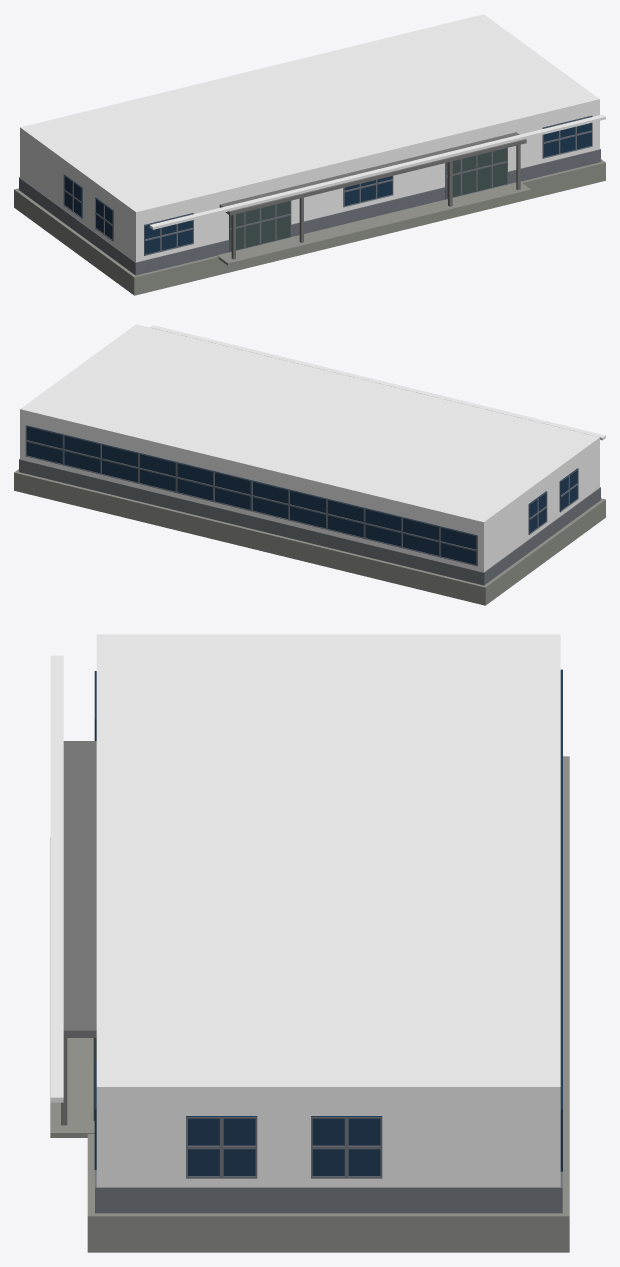
Rendered from mashup-lecture-base-prebuilt_close.fbx.
3 renders of one model, top to bottom at view 1: azimuth 30°, elevation 25°; view 2: azimuth 150°, elevation 25°; view 3: azimuth 270°, elevation 25°, orthographic. The views are drawn at different scales.
Parts seen in each view (by area): view 1: a201.LectureBase.001; view 2: a201.LectureBase.001; view 3: a201.LectureBase.001.
Part boxes in pixels (box(x1,y1,x2,y2)): a201.LectureBase.001: box(14, 14, 605, 295); a201.LectureBase.001: box(14, 324, 605, 605); a201.LectureBase.001: box(50, 634, 569, 1252).
Bounding box in the file's own units: 30.5 × 5 × 14.55.
